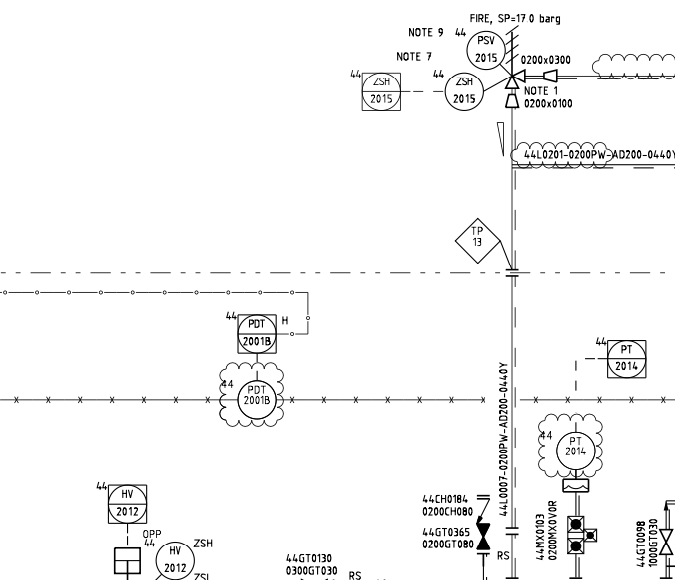Instrument: (536, 424, 596, 471), (220, 375, 277, 421), (453, 24, 507, 70), (429, 70, 488, 112), (141, 537, 197, 578)
Instrument-square: (586, 337, 653, 384), (89, 478, 151, 526), (224, 304, 279, 358), (347, 66, 406, 116)
